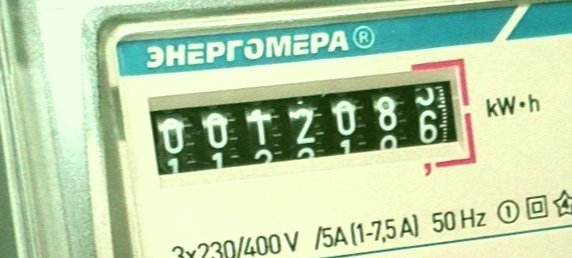0: (200, 105, 233, 151), (157, 110, 187, 155), (330, 94, 359, 136)
1: (245, 102, 272, 146)
2: (288, 102, 319, 145)
6: (412, 104, 441, 144)
8: (372, 89, 400, 132)
screen: (135, 34, 491, 222)
